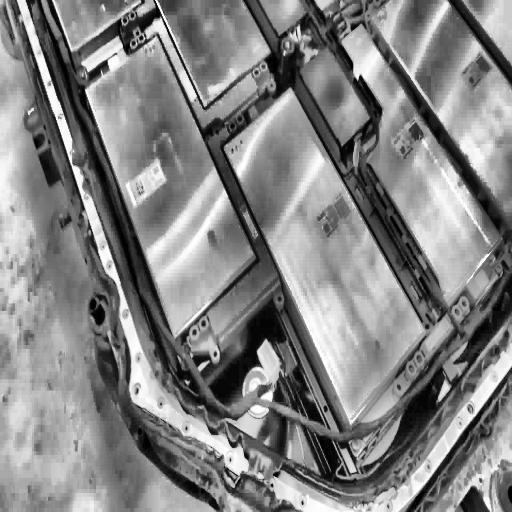battery_module: (224, 88, 426, 428), (85, 35, 256, 339)
busbar: (118, 0, 287, 366)
low_volt_cable: (65, 66, 512, 445)
